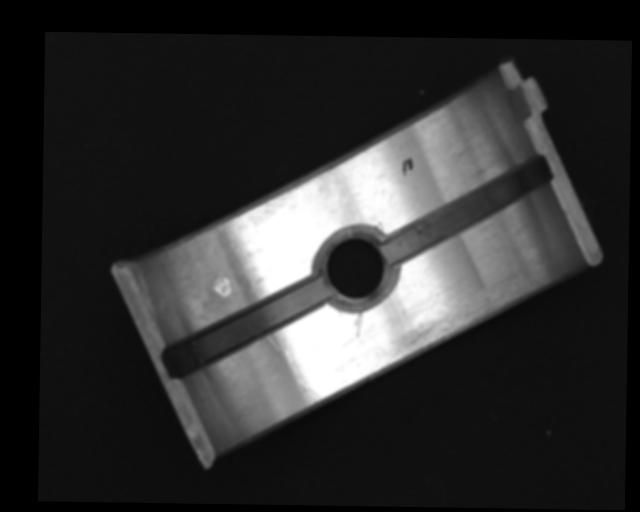blot: (400, 156, 413, 176)
bruise: (212, 275, 231, 297)
gap: (382, 156, 552, 264), (162, 279, 325, 376)
hole: (315, 226, 400, 306)
nick: (284, 348, 323, 404), (354, 310, 362, 338)
scratch: (394, 280, 546, 363)
